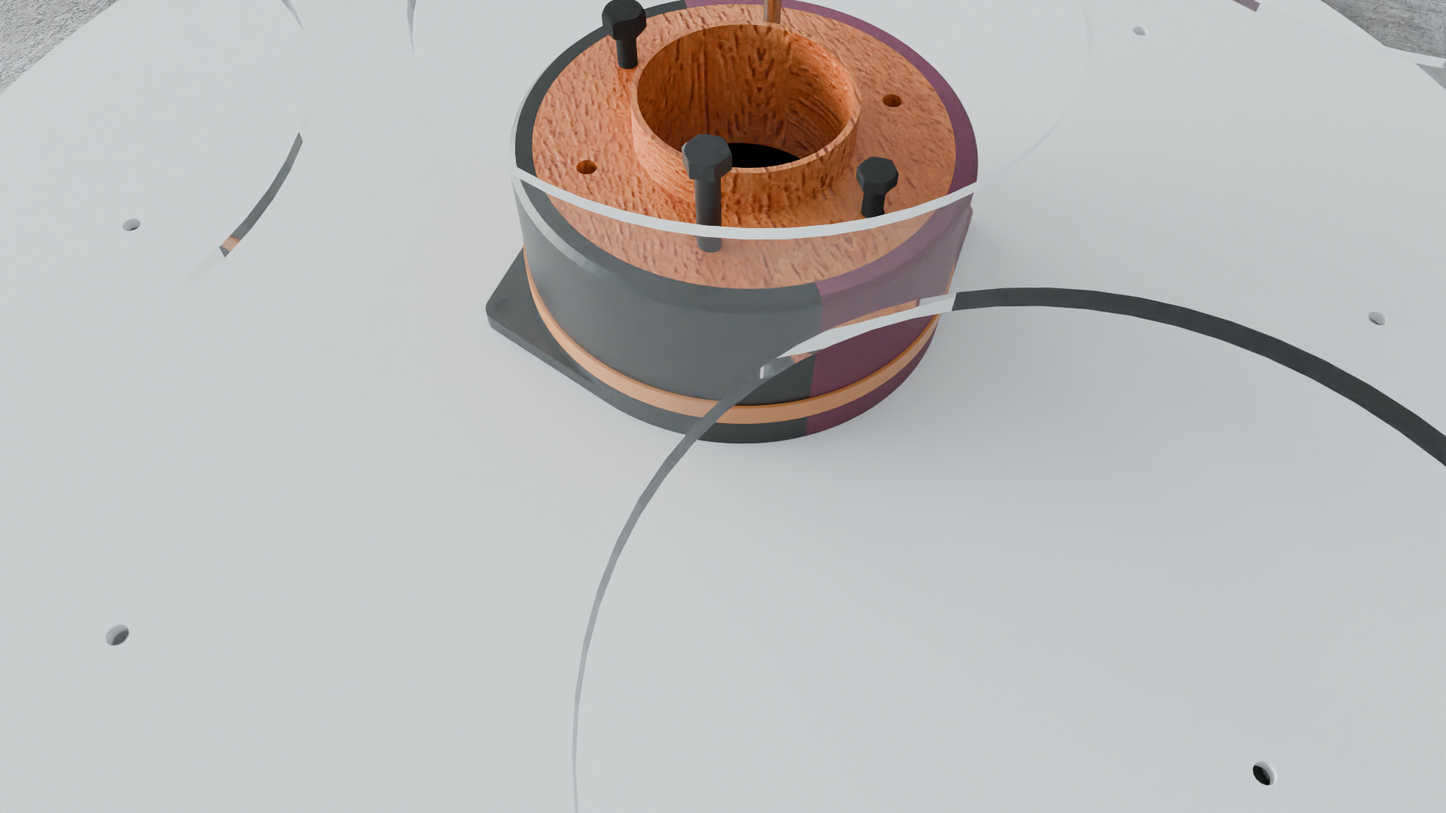bolt: (682, 134, 732, 169), (857, 157, 898, 185), (602, 0, 645, 26)
